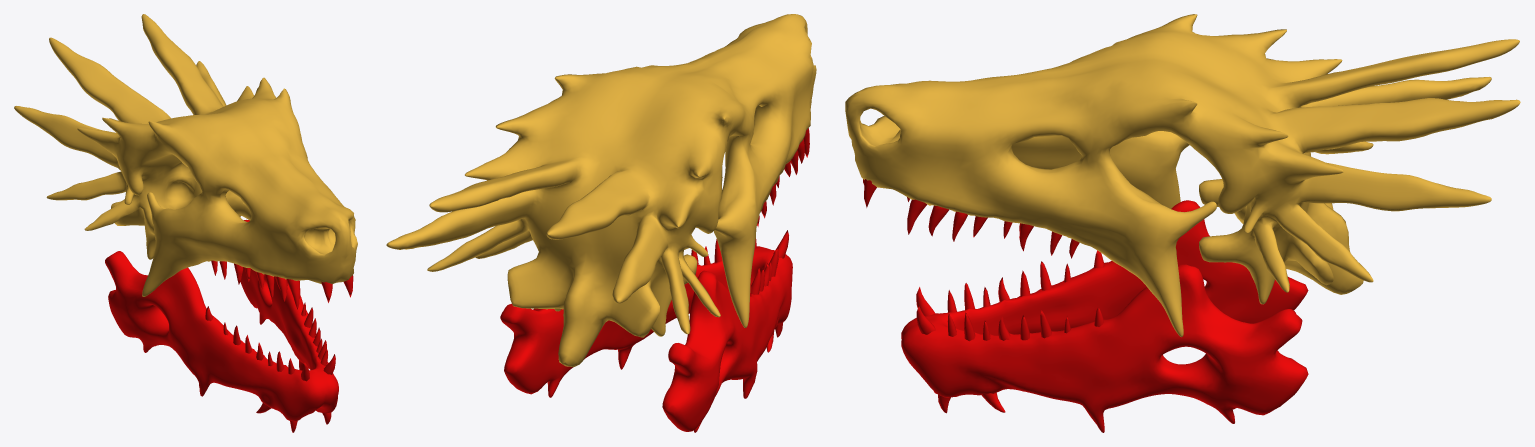
The model's file is Env_DragonSkeleton_Head.fbx.
The picture shows the model from 3 angles, left to right: view 1: azimuth 30°, elevation 25°; view 2: azimuth 150°, elevation 25°; view 3: azimuth 270°, elevation 25°; orthographic projection. The views are drawn at different scales.
Parts seen in each view (by area): view 1: crâne1_low, crâne2_low, dents_bas_low, dents_haut_low; view 2: crâne1_low, crâne2_low, dents_bas_low, dents_haut_low; view 3: crâne1_low, crâne2_low, dents_bas_low, dents_haut_low.
Boxes of the visible parts, <box> form: crâne1_low: <box>14,14,357,296</box>; crâne2_low: <box>105,219,338,420</box>; dents_bas_low: <box>205,288,335,381</box>; dents_haut_low: <box>211,260,353,309</box>; crâne1_low: <box>386,14,816,367</box>; crâne2_low: <box>500,246,792,432</box>; dents_bas_low: <box>691,230,788,296</box>; dents_haut_low: <box>757,128,809,226</box>; crâne1_low: <box>845,14,1520,336</box>; crâne2_low: <box>901,200,1308,432</box>; dents_bas_low: <box>916,250,1104,341</box>; dents_haut_low: <box>863,179,1079,258</box>.
Size of the model in its own units: 302 by 356 by 628.
